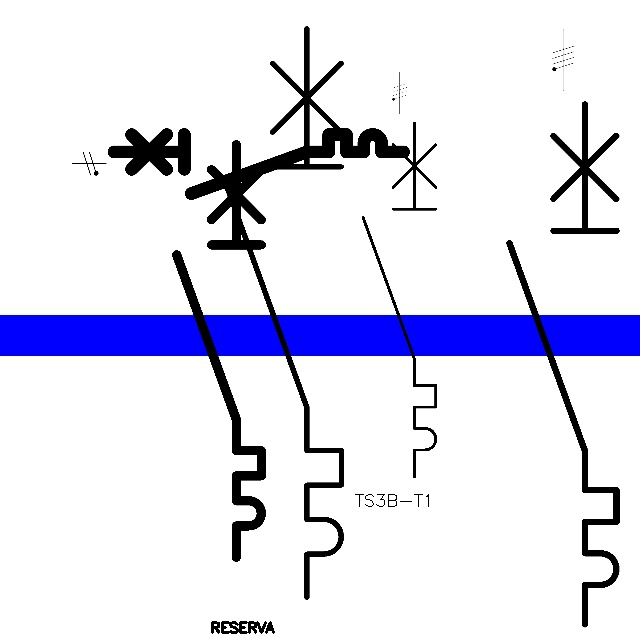interruptor_termomagnetico: (210, 14, 356, 612), (496, 90, 630, 637), (166, 134, 272, 568), (354, 114, 445, 486), (106, 127, 411, 201)
